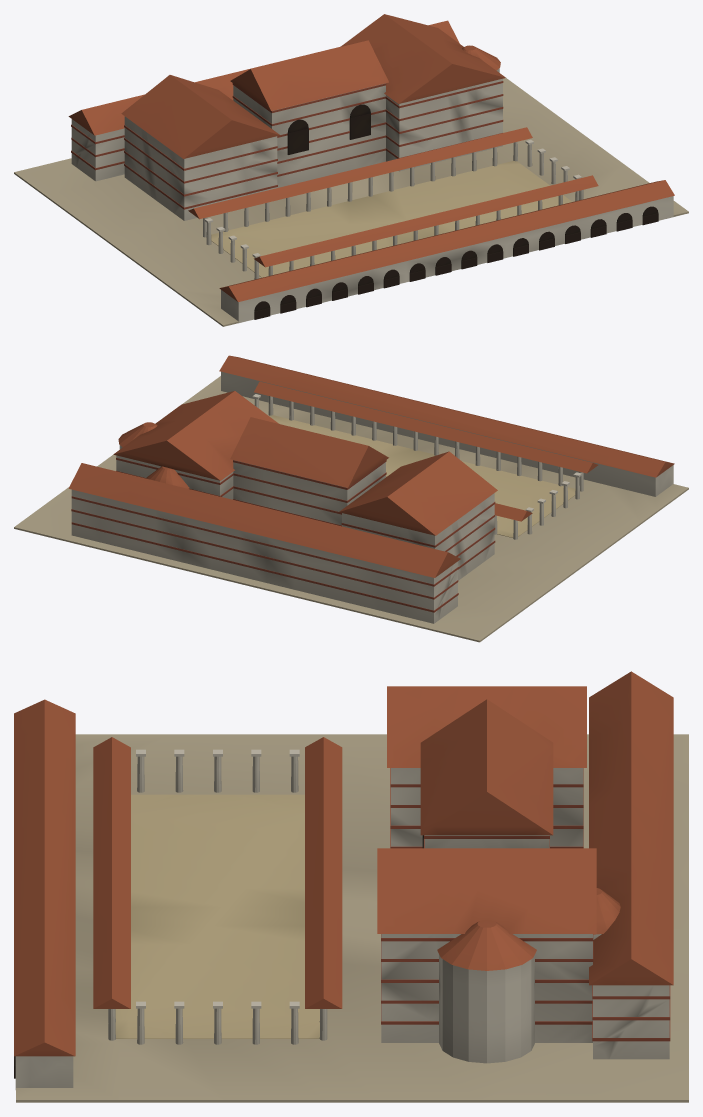
File: cluny-baths.glb
3 renders of one model, top to bottom at view 1: azimuth 30°, elevation 25°; view 2: azimuth 150°, elevation 25°; view 3: azimuth 270°, elevation 25°, orthographic. The views are drawn at different scales.
Visible parts, largest first — view 1: p0_halls, p2_palaestra, p1_roofs; view 2: p0_halls, p1_roofs, p2_palaestra; view 3: p0_halls, p2_palaestra, p1_roofs.
Part boxes in pixels (left/top/right/bottom): p0_halls: left=14, top=68, right=688, bottom=326; p2_palaestra: left=188, top=127, right=674, bottom=322; p1_roofs: left=68, top=14, right=505, bottom=158; p0_halls: left=14, top=376, right=688, bottom=642; p1_roofs: left=68, top=391, right=497, bottom=577; p2_palaestra: left=219, top=355, right=674, bottom=539; p0_halls: left=16, top=734, right=688, bottom=1102; p2_palaestra: left=14, top=699, right=342, bottom=1089; p1_roofs: left=377, top=671, right=673, bottom=985.
Bounding box in the file's own units: 90 × 20.04 × 70.2.
